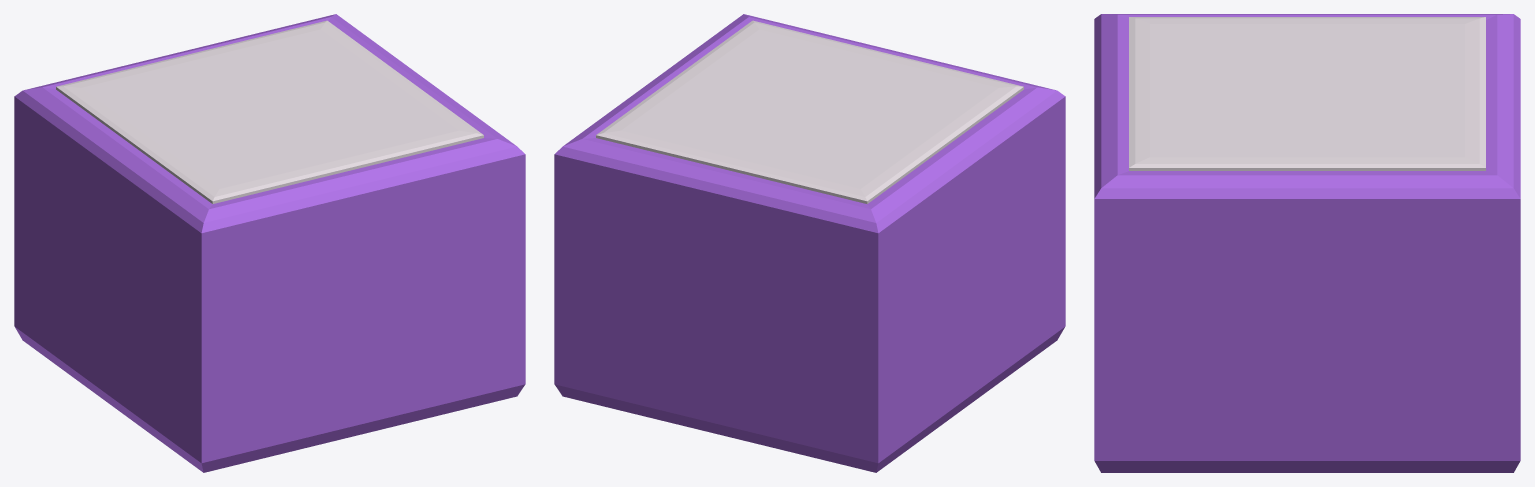
Rendered from CubeModel2.fbx.
The picture shows the model from 3 angles, left to right: view 1: azimuth 30°, elevation 25°; view 2: azimuth 150°, elevation 25°; view 3: azimuth 270°, elevation 25°; orthographic projection. The views are drawn at different scales.
Visible parts, largest first — view 1: Cube.001; view 2: Cube.001; view 3: Cube.001.
Boxes of the visible parts, bbox=[...] form: Cube.001: bbox=[14, 14, 525, 472]; Cube.001: bbox=[554, 14, 1065, 472]; Cube.001: bbox=[1094, 14, 1520, 472].
Bounding box in the file's own units: 503 × 393 × 503.
